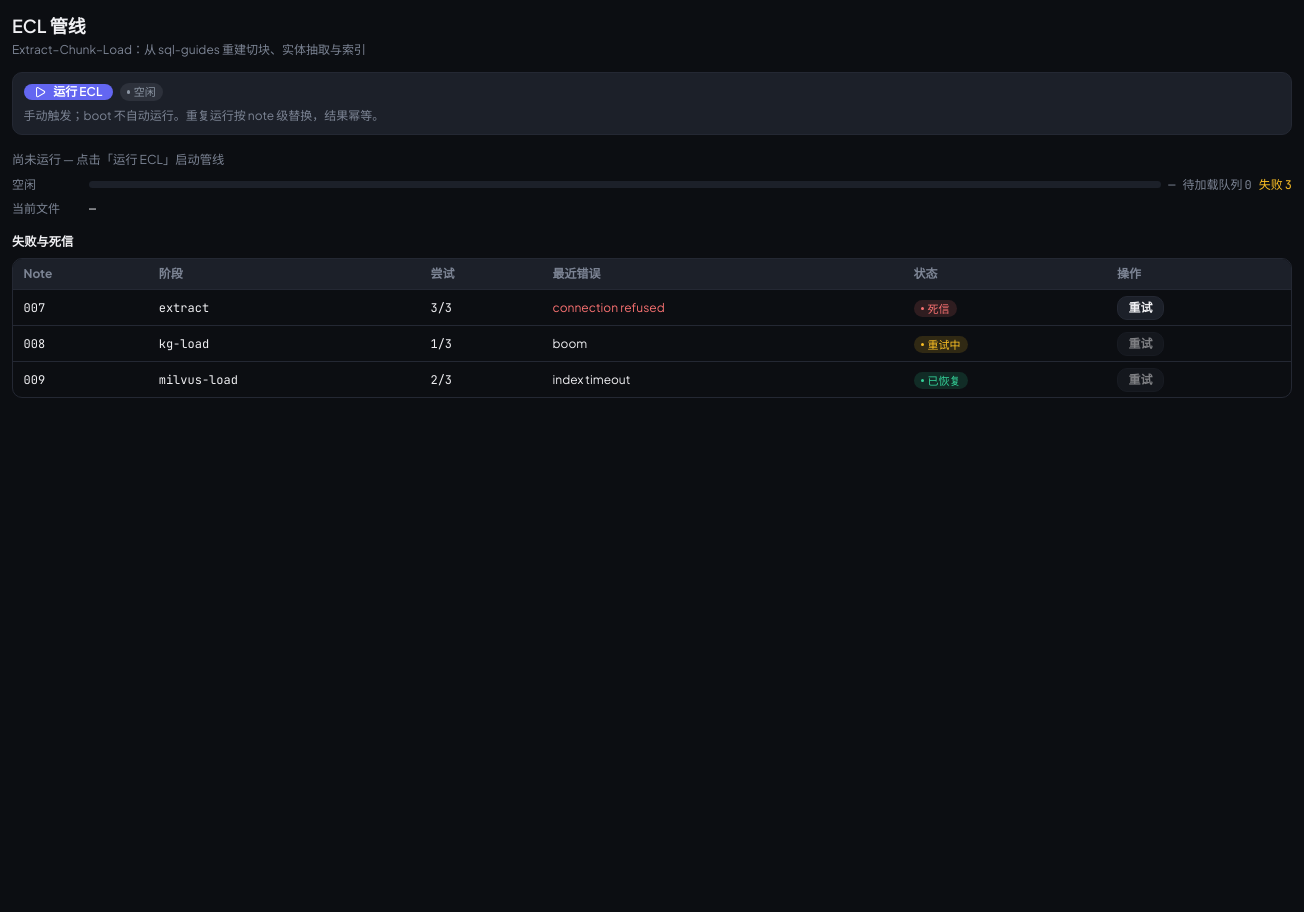
Test: PipelineTab — Retry lifecycle (SC-5) › renders the retry failure toast with the raw server reason
The width and height of the screenshot is (1304, 912).
Click the button with test id "pipeline-retry-007": (1140, 308) [1117,296,1164,320]
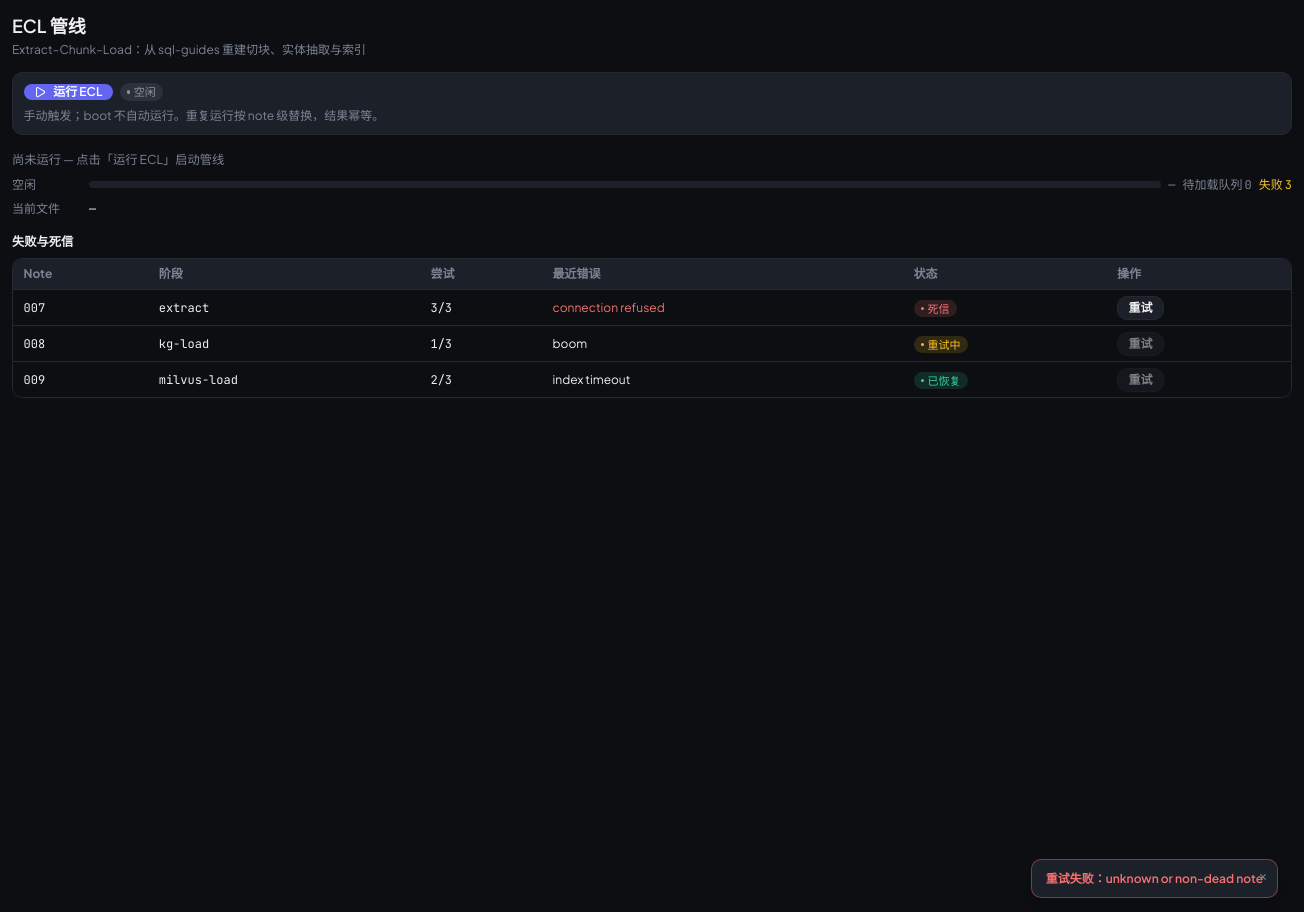
Expected: the message with test id "sf-toast" shows "重试失败：unknown or non-dead note", [1046,870,1263,886]
